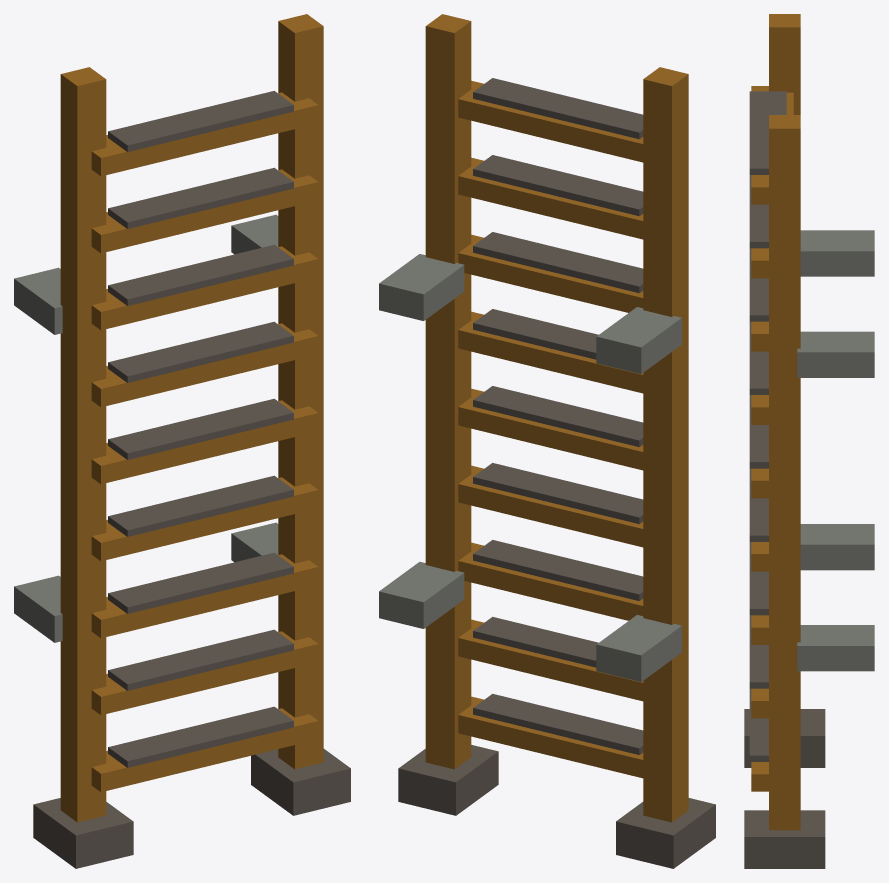
Rendered from hatch_ladder.obj.
The picture shows the model from 3 angles, left to right: view 1: azimuth 30°, elevation 25°; view 2: azimuth 150°, elevation 25°; view 3: azimuth 270°, elevation 25°; orthographic projection. The views are drawn at different scales.
Visible parts, largest first — view 1: hatch_ladder; view 2: hatch_ladder; view 3: hatch_ladder.
Part boxes in pixels (<box>): hatch_ladder: <box>14,14,350,868</box>; hatch_ladder: <box>379,14,715,868</box>; hatch_ladder: <box>744,14,874,868</box>.
Bounding box in the file's own units: 0.86 × 2.3 × 0.37.
